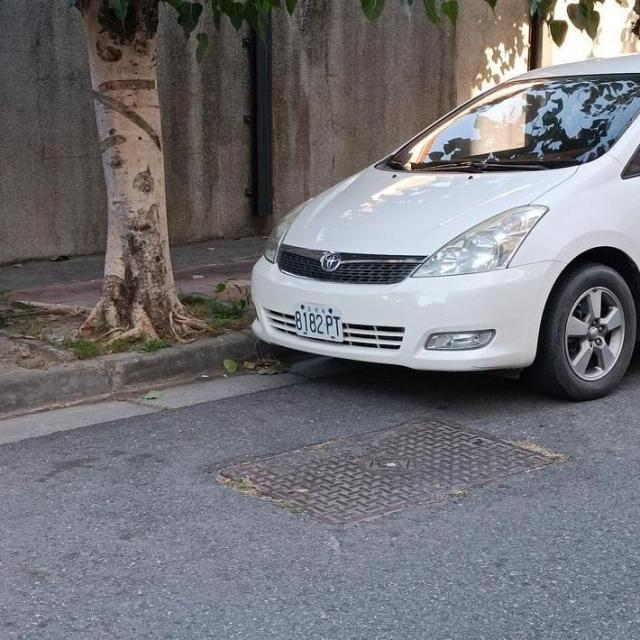W: (286, 294, 352, 347)
